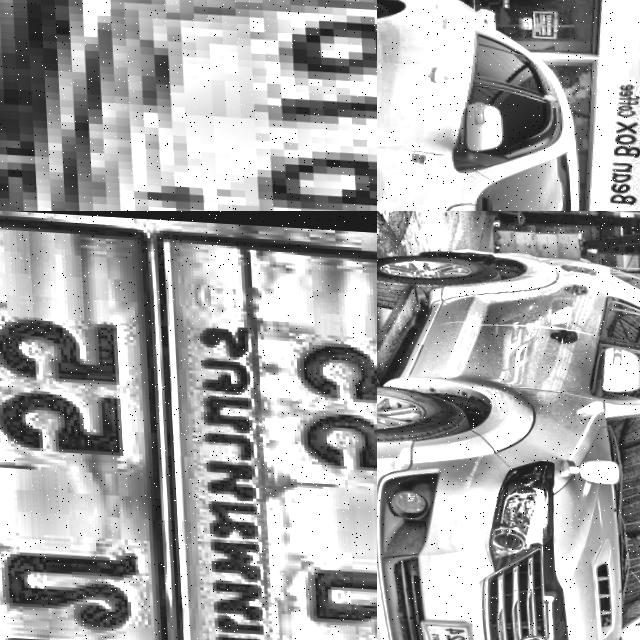license-plate: (152, 223, 377, 640), (0, 0, 377, 211), (0, 211, 176, 640), (414, 616, 474, 640)
